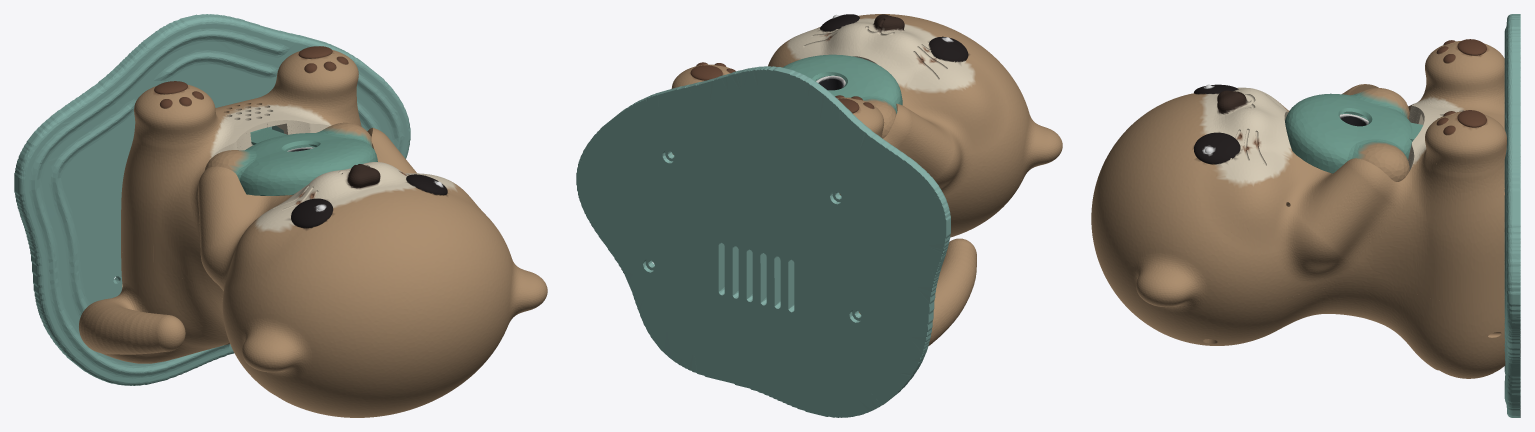
The model's file is otter.glb.
The picture shows the model from 3 angles, left to right: view 1: azimuth 30°, elevation 25°; view 2: azimuth 150°, elevation 25°; view 3: azimuth 270°, elevation 25°; orthographic projection. The views are drawn at different scales.
Parts seen in each view (by area): view 1: front_shell; view 2: front_shell; view 3: front_shell.
Part boxes in pixels (box(x1,y1,x2,y2)): front_shell: box(14, 14, 547, 417); front_shell: box(576, 14, 1062, 417); front_shell: box(1091, 14, 1520, 417).
Bounding box in the file's own units: 133 × 115 × 125.
